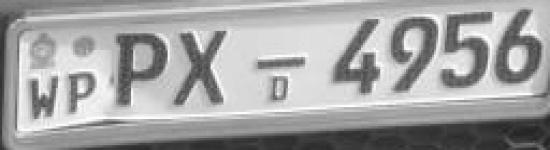-: (250, 50, 318, 75)
4: (320, 13, 384, 97)
5: (442, 6, 497, 96)
6: (496, 5, 546, 90)
9: (385, 9, 442, 96)
P: (106, 26, 174, 112), (62, 66, 98, 120)
W: (26, 71, 64, 122)
X: (171, 23, 238, 111)
